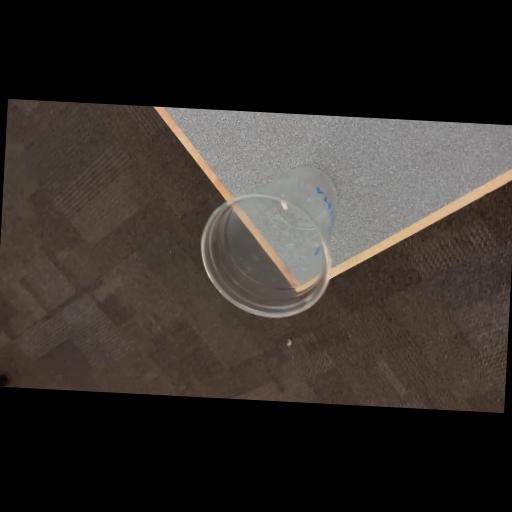lp_plastic_cup: (202, 162, 340, 320)
